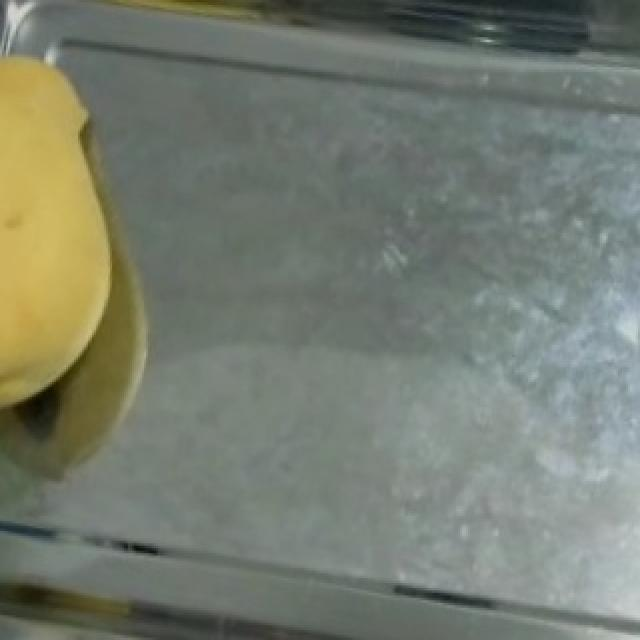fruit: (0, 37, 148, 439)
